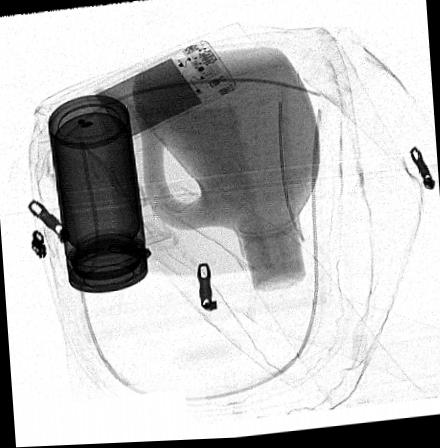Powerbank: (85, 39, 236, 148)
